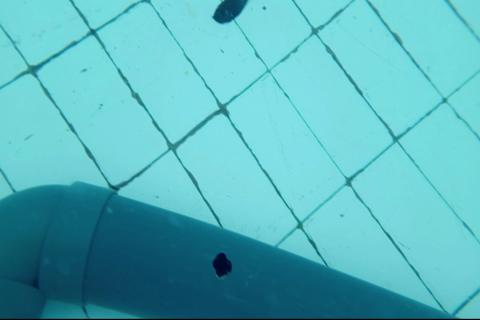kebocoran: (211, 250, 233, 279)
